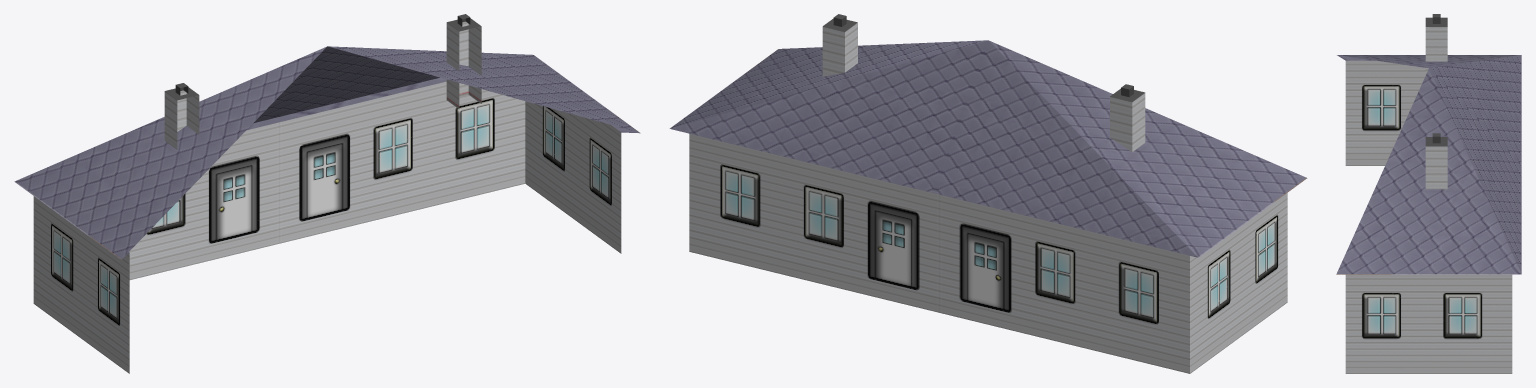
The model's file is House_05.FBX.
3 views of the same model, side by side, from view 1: azimuth 30°, elevation 25°; view 2: azimuth 150°, elevation 25°; view 3: azimuth 270°, elevation 25° (orthographic). The views are drawn at different scales.
Visible parts, largest first — view 1: House_01, Chimneys_01; view 2: House_01, Chimneys_01; view 3: House_01, Chimneys_01.
Boxes of the visible parts, box(x1,y1,x2,y2) form: House_01: box(14, 46, 640, 373); Chimneys_01: box(164, 14, 481, 149); House_01: box(669, 40, 1307, 373); Chimneys_01: box(822, 14, 1145, 152); House_01: box(1336, 55, 1521, 373); Chimneys_01: box(1425, 14, 1447, 189).
Size of the model in its own units: 125 by 53.46 by 44.61.
